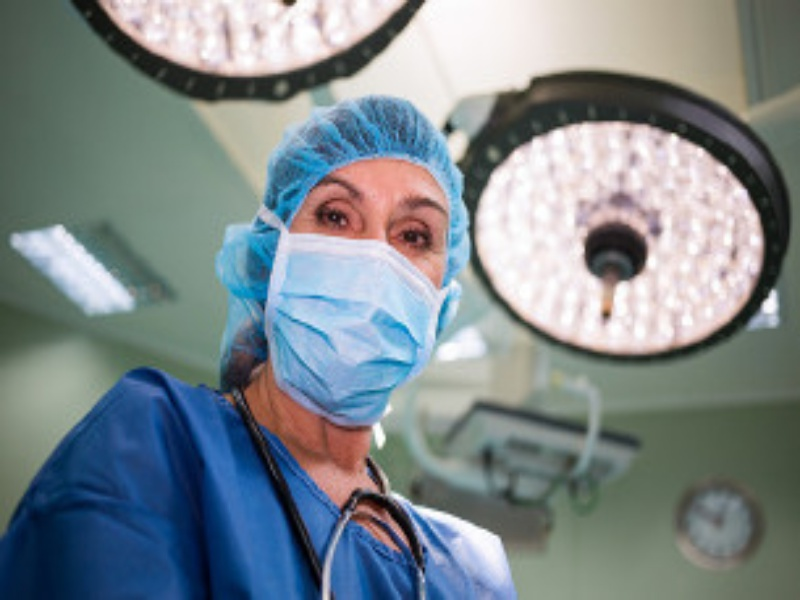mask: (256, 86, 472, 423)
